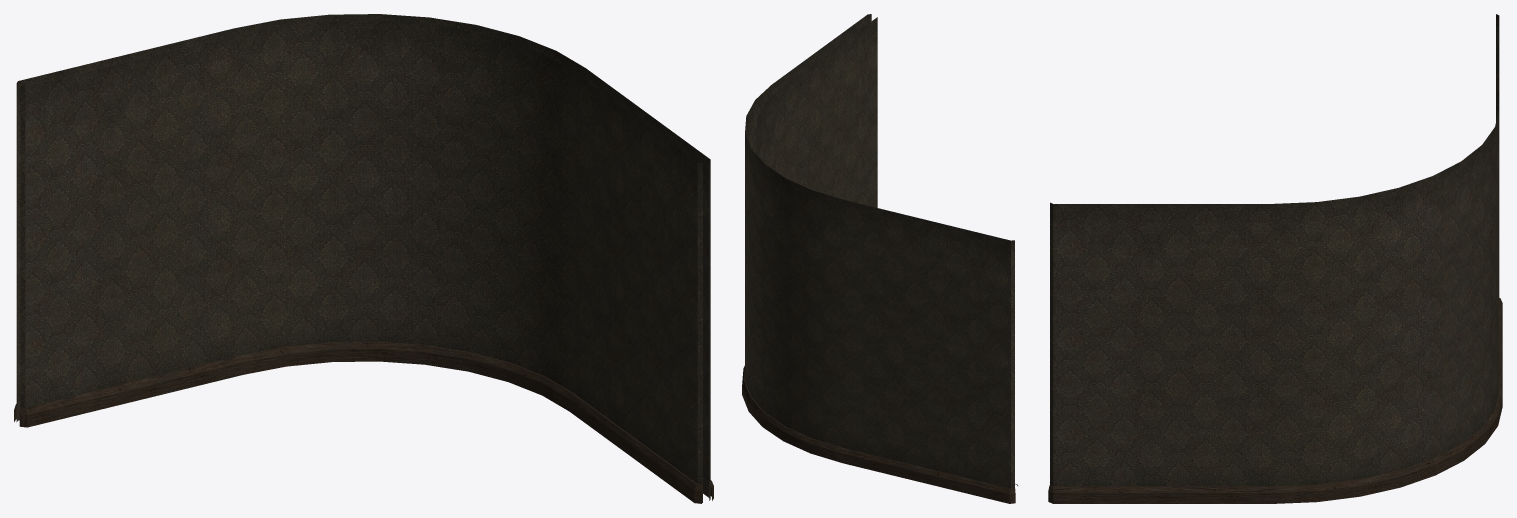
Rendered from wall_1_1_rounded_corner_1.obj.
The picture shows the model from 3 angles, left to right: view 1: azimuth 30°, elevation 25°; view 2: azimuth 150°, elevation 25°; view 3: azimuth 270°, elevation 25°; orthographic projection. The views are drawn at different scales.
Visible parts, largest first — view 1: wall_1_1_rounded_corner_1; view 2: wall_1_1_rounded_corner_1; view 3: wall_1_1_rounded_corner_1.
Part boxes in pixels (bbox=[...]): wall_1_1_rounded_corner_1: bbox=[14, 14, 713, 503]; wall_1_1_rounded_corner_1: bbox=[742, 14, 1017, 503]; wall_1_1_rounded_corner_1: bbox=[1048, 14, 1502, 503].
Bounding box in the file's own units: 4.13 × 3 × 4.13.
